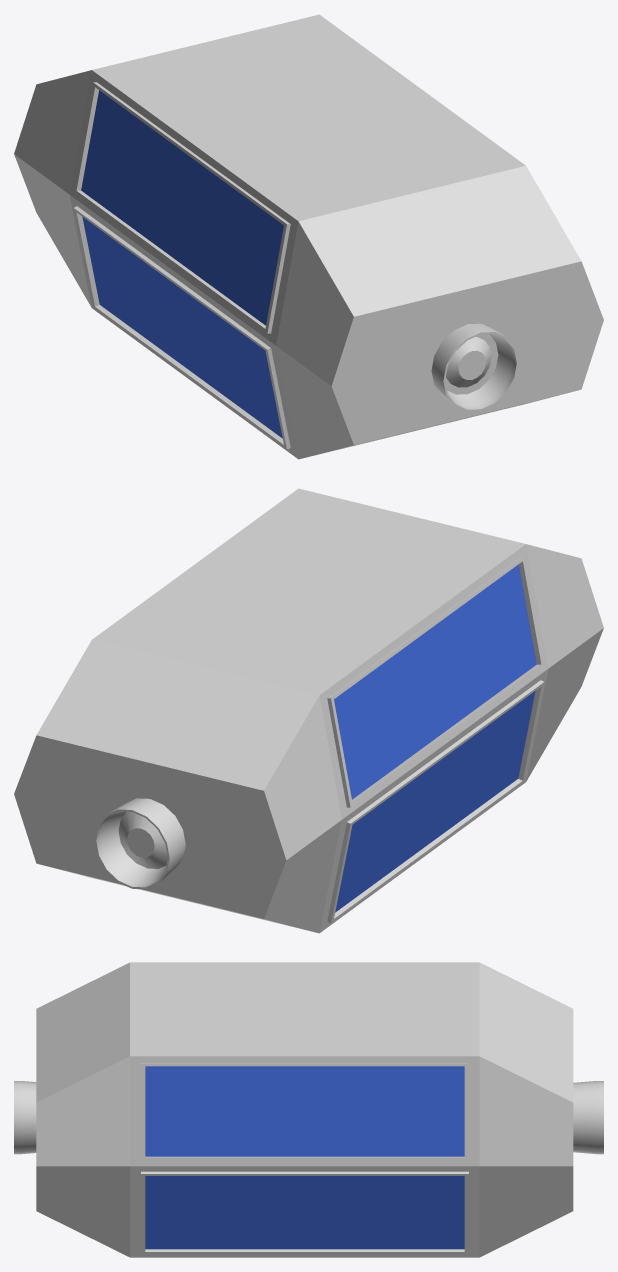
File: Exercise.glb
3 renders of one model, top to bottom at view 1: azimuth 30°, elevation 25°; view 2: azimuth 150°, elevation 25°; view 3: azimuth 270°, elevation 25°, orthographic. The views are drawn at different scales.
Visible parts, largest first — view 1: medical exterior.006; view 2: medical exterior.006; view 3: medical exterior.006.
Boxes of the visible parts, left/top/right/bottom form: medical exterior.006: left=14, top=14, right=603, bottom=459; medical exterior.006: left=14, top=488, right=603, bottom=933; medical exterior.006: left=14, top=962, right=603, bottom=1257.
Size of the model in its own units: 2.16 by 1.78 by 4.72.
